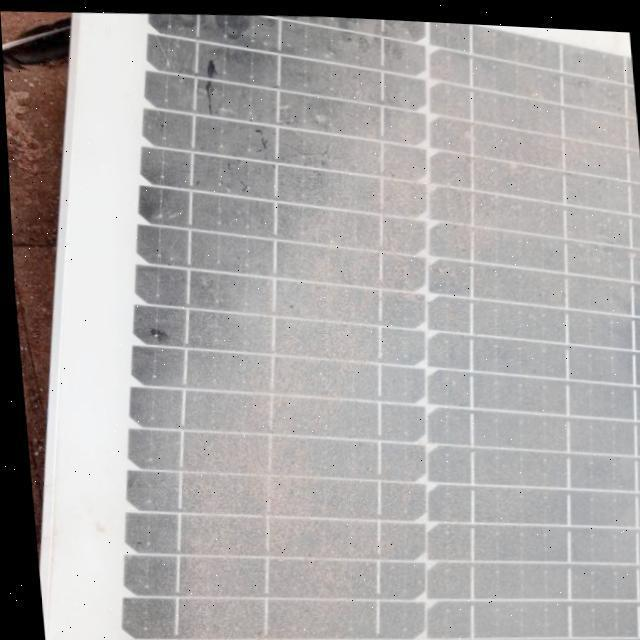Anomaly Solar Panel: (72, 3, 640, 640)
Surface Contaminant: (88, 11, 640, 640)
